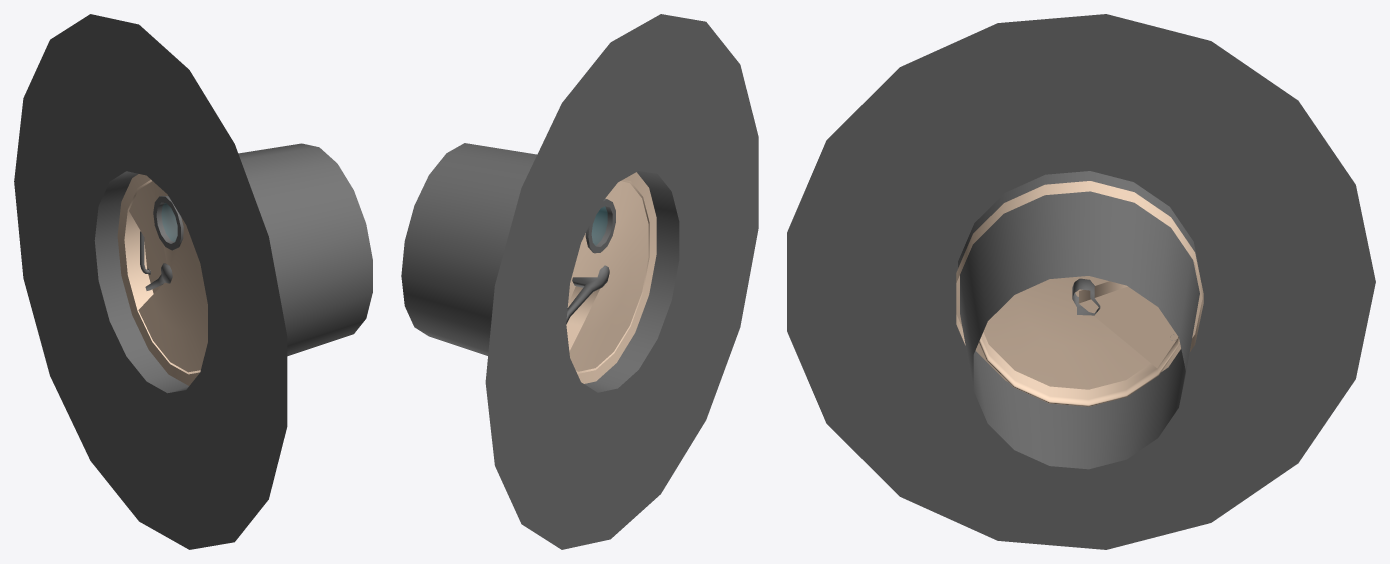
File: superDoorToShowerRoom.fbx
3 renders of one model, left to right at view 1: azimuth 30°, elevation 25°; view 2: azimuth 150°, elevation 25°; view 3: azimuth 270°, elevation 25°, orthographic. The views are drawn at different scales.
Parts seen in each view (by area): view 1: superDoorToShowerRoom; view 2: superDoorToShowerRoom; view 3: superDoorToShowerRoom.
Boxes of the visible parts, box(x1,y1,x2,y2) form: superDoorToShowerRoom: box(14, 14, 372, 549); superDoorToShowerRoom: box(401, 14, 758, 549); superDoorToShowerRoom: box(787, 14, 1375, 549).
Size of the model in its own units: 150 by 414 by 412.
